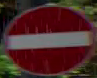No entry: (4, 1, 96, 77)
